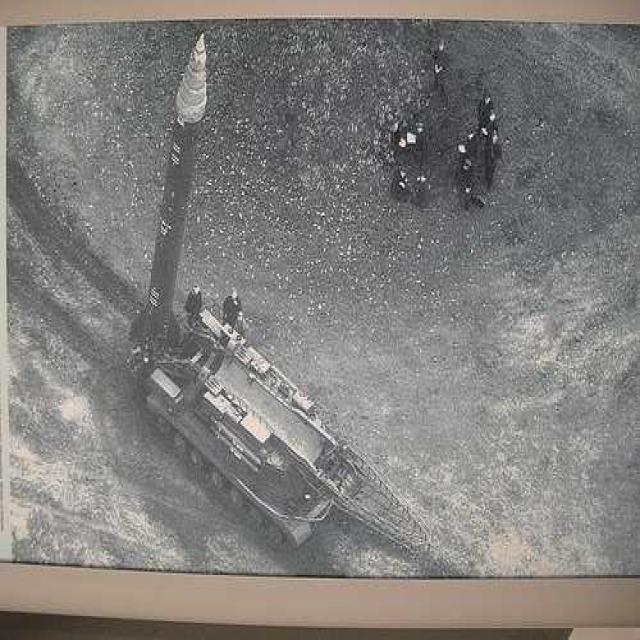missile: (126, 29, 210, 372)
